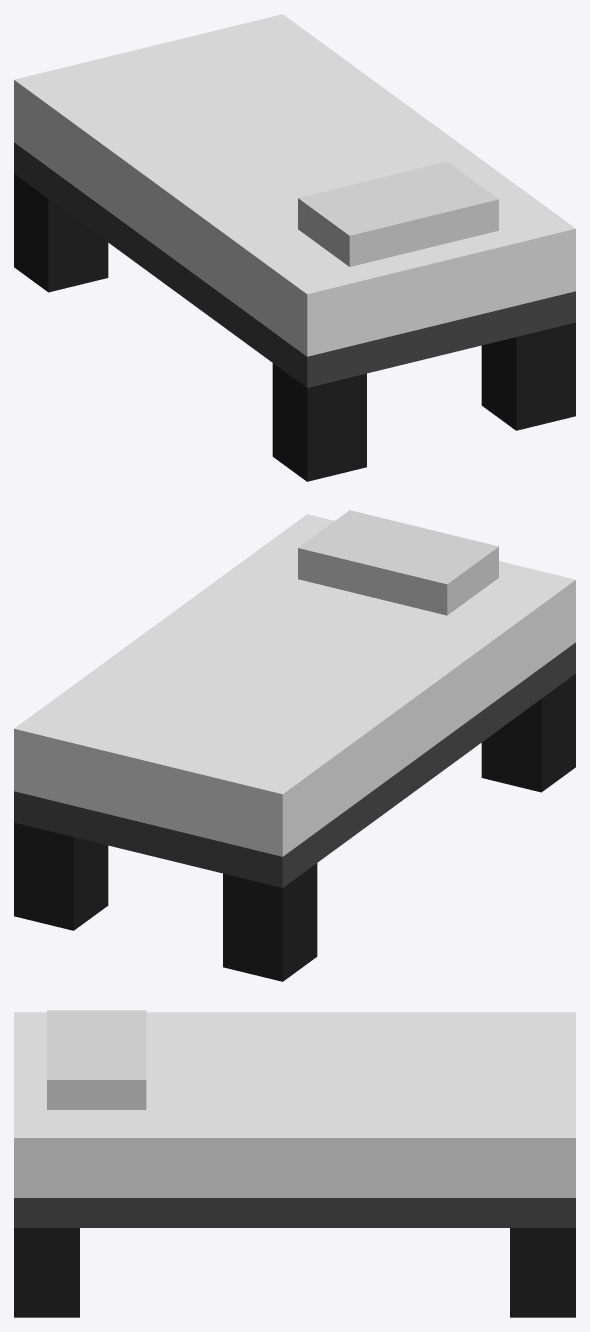
Rendered from KidsRoomStorage-16.obj.
The picture shows the model from 3 angles, top to bottom: view 1: azimuth 30°, elevation 25°; view 2: azimuth 150°, elevation 25°; view 3: azimuth 270°, elevation 25°; orthographic projection. The views are drawn at different scales.
Size of the model in its own units: 0.9 by 0.7 by 1.7.
1 material, 1 textured.
